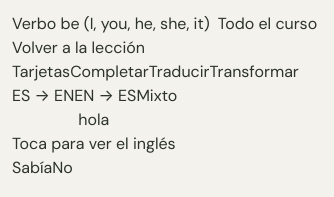
Test: StudyPracticeDesk › does not show the same completar item immediately after a miss when another is due
Click the button "Completar" at (109,72), box left=70, top=60, right=149, bottom=84
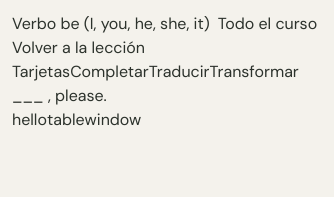
Now the text "___ , please." is shown, box left=12, top=85, right=107, bottom=106
Click the button "table" at (66,120), box left=47, top=108, right=85, bottom=132
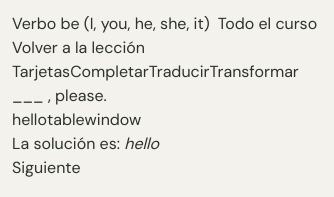
Click the button "Siguiente" at (46,168), box left=12, top=156, right=80, bottom=180
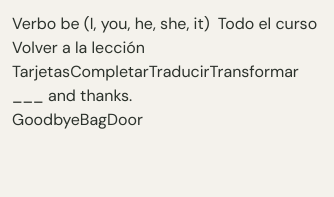
Now the text "___ and thanks." is shown, box left=12, top=85, right=132, bottom=106
Now the text "___ , please." is gone
